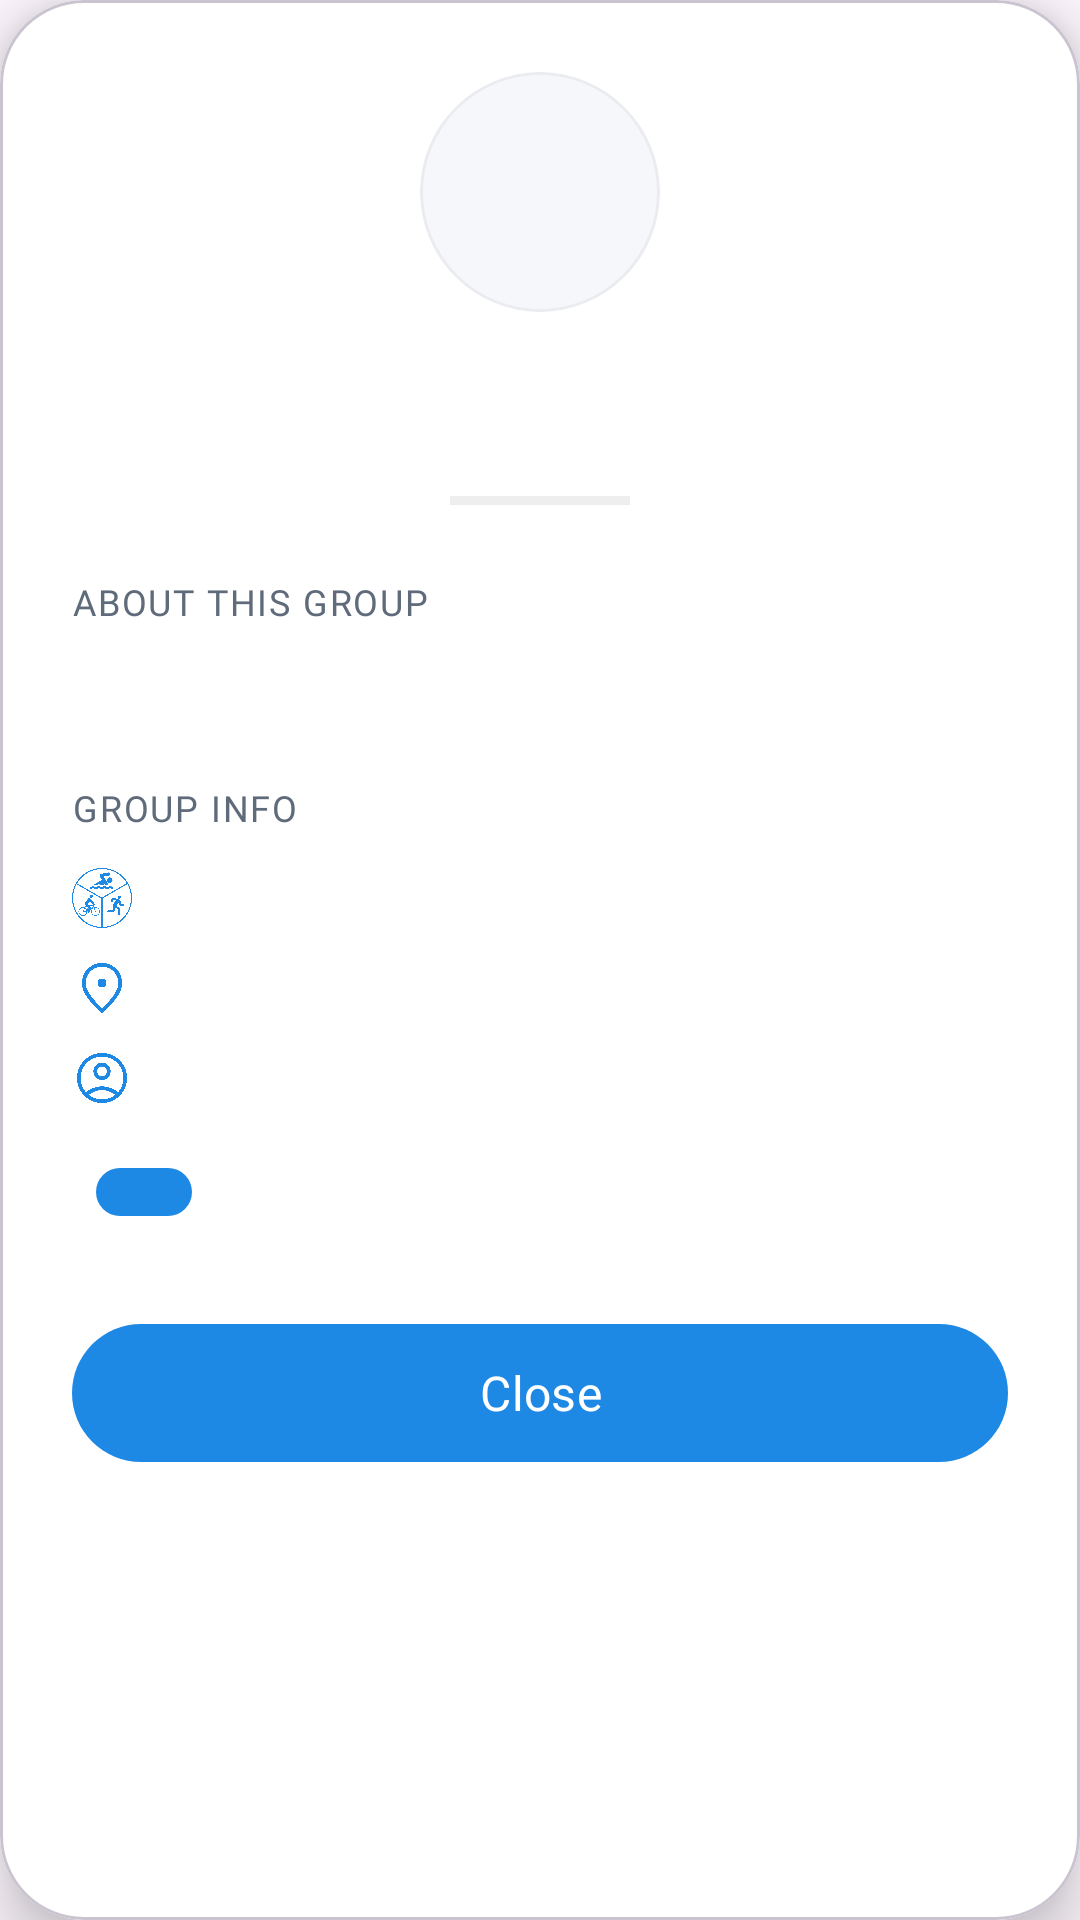

Screen size 1080*1920. Icon name, then its box in pixels as detection(x1, y1, x2, y2):
location: detection(82, 963, 122, 1013)
sport: detection(72, 868, 132, 928)
user: detection(77, 1053, 127, 1103)
